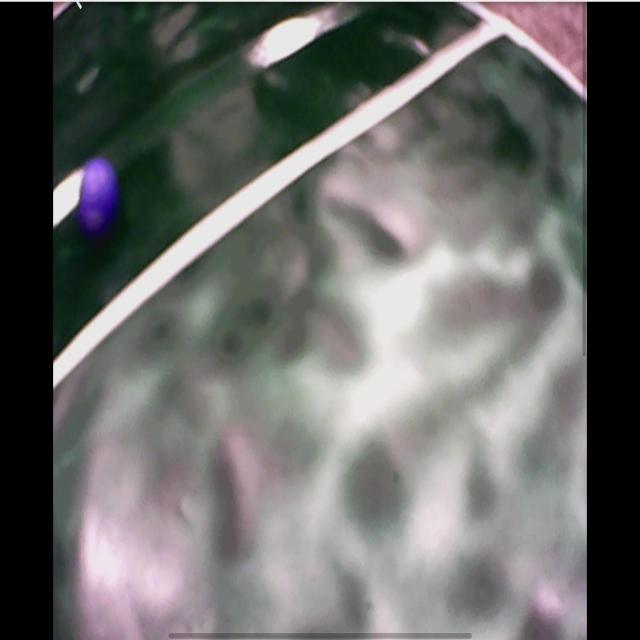ball: (76, 159, 116, 224)
